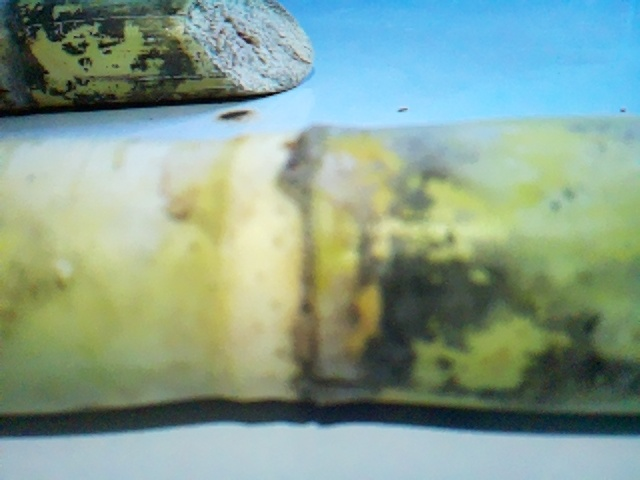Good Sugarcane: (2, 120, 640, 416), (0, 0, 312, 111)
Node: (203, 131, 381, 408)
